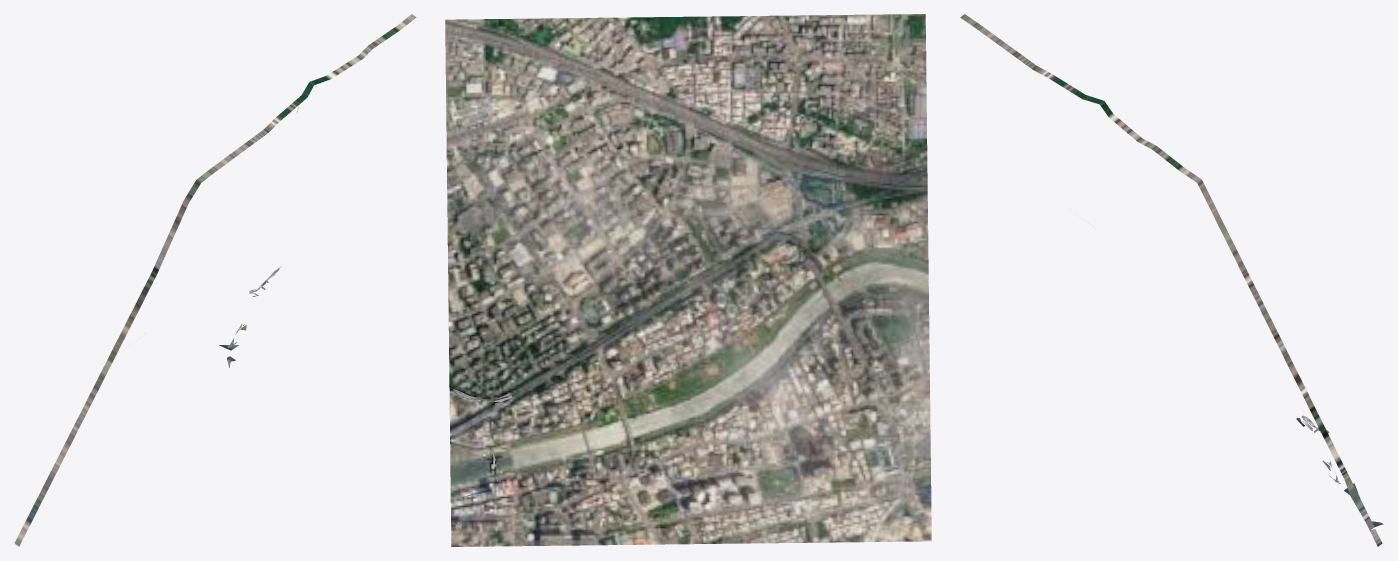
3 views of the same model, side by side, from view 1: azimuth 30°, elevation 25°; view 2: azimuth 150°, elevation 25°; view 3: azimuth 270°, elevation 25° (orthographic). The views are drawn at different scales.
Bounding box in the file's own units: 2445 × 2240 × 2062.
1 material, 1 textured.
